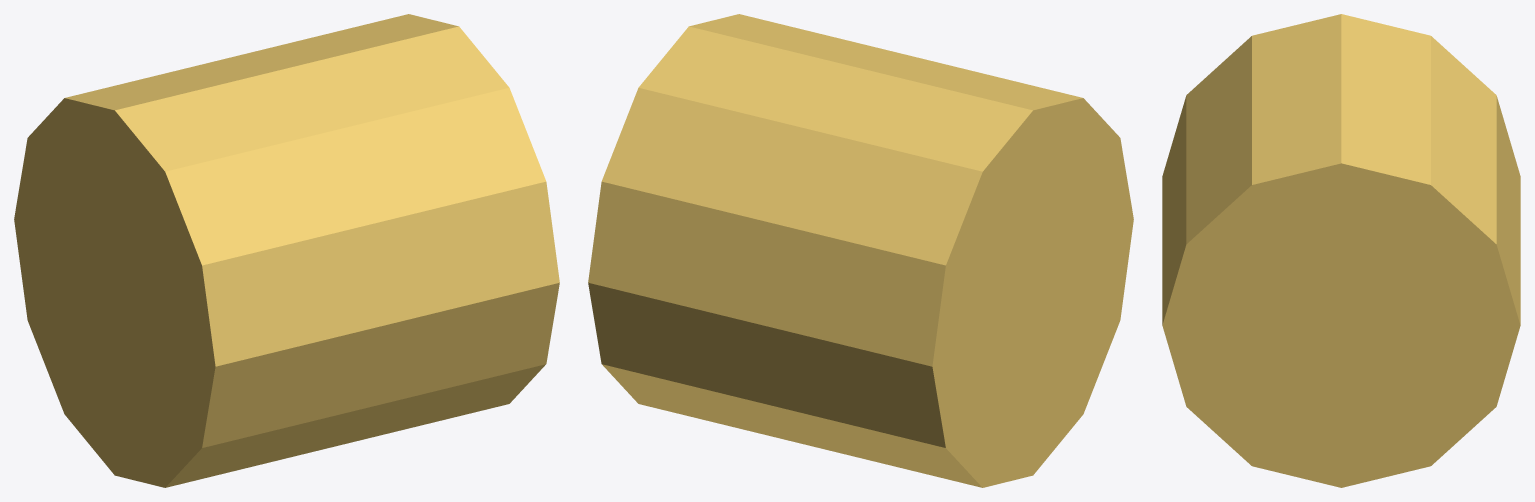
Rendered from hay_bale.obj.
3 views of the same model, side by side, from view 1: azimuth 30°, elevation 25°; view 2: azimuth 150°, elevation 25°; view 3: azimuth 270°, elevation 25° (orthographic). The views are drawn at different scales.
Visible parts, largest first — view 1: hay; view 2: hay; view 3: hay.
Part boxes in pixels (x1,y1,x2,y2): hay: [14, 14, 559, 487]; hay: [588, 14, 1133, 487]; hay: [1162, 14, 1520, 487].
Bounding box in the file's own units: 0.75 × 0.76 × 0.76.
